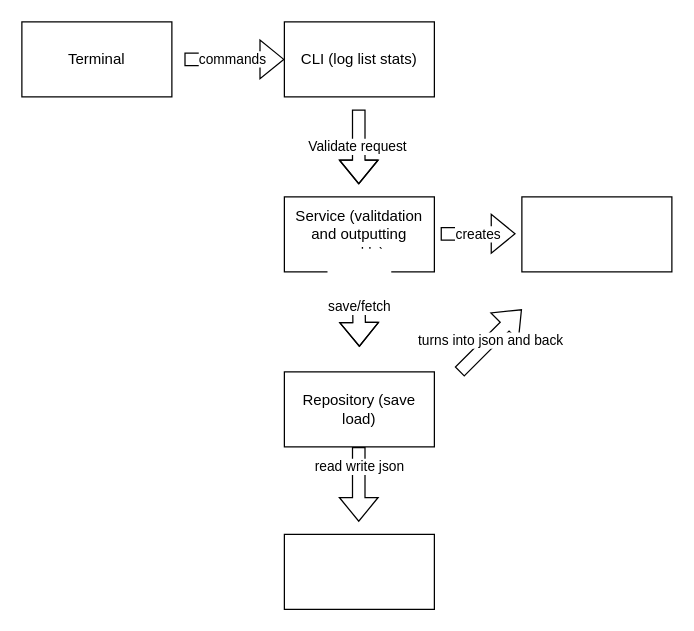
Image size: 694x631. Some labels were removed from this diagram. Each missing label, with the centre of its shape:
"Data" goes at pixel 358 571.
"Study session (with the needed varibales)" goes at pixel 596 234.
